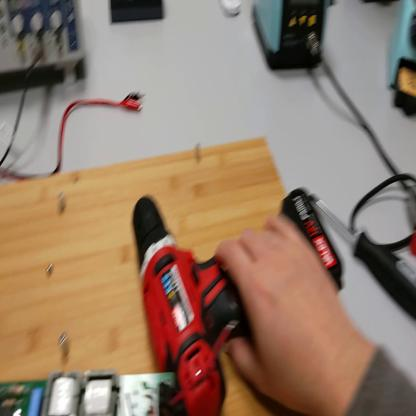electric screwdriver: (131, 188, 348, 416)
hand: (216, 216, 350, 407)
low voltage board: (2, 367, 179, 416)
oscilloscope: (2, 1, 89, 96)
pliers: (406, 189, 416, 262)
screwdriver-: (309, 189, 416, 322)
welder base: (387, 3, 416, 123)
welder station: (252, 2, 329, 74)
working area: (1, 136, 351, 416)
